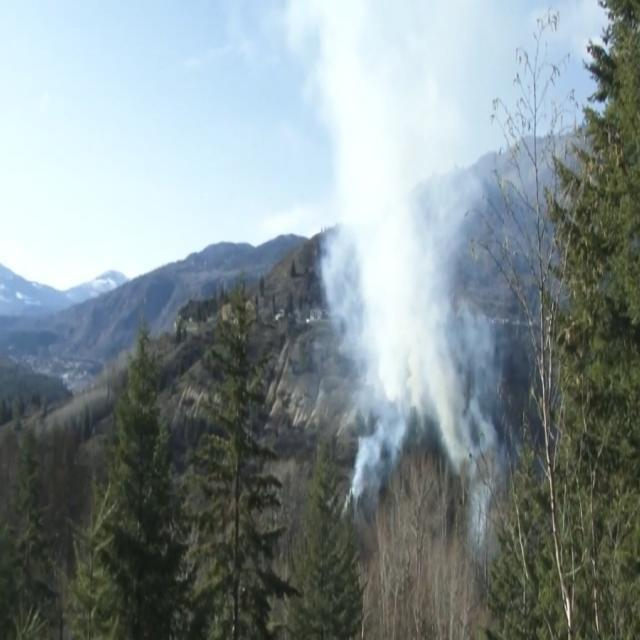Smoke: (315, 0, 497, 482), (328, 3, 446, 513)
